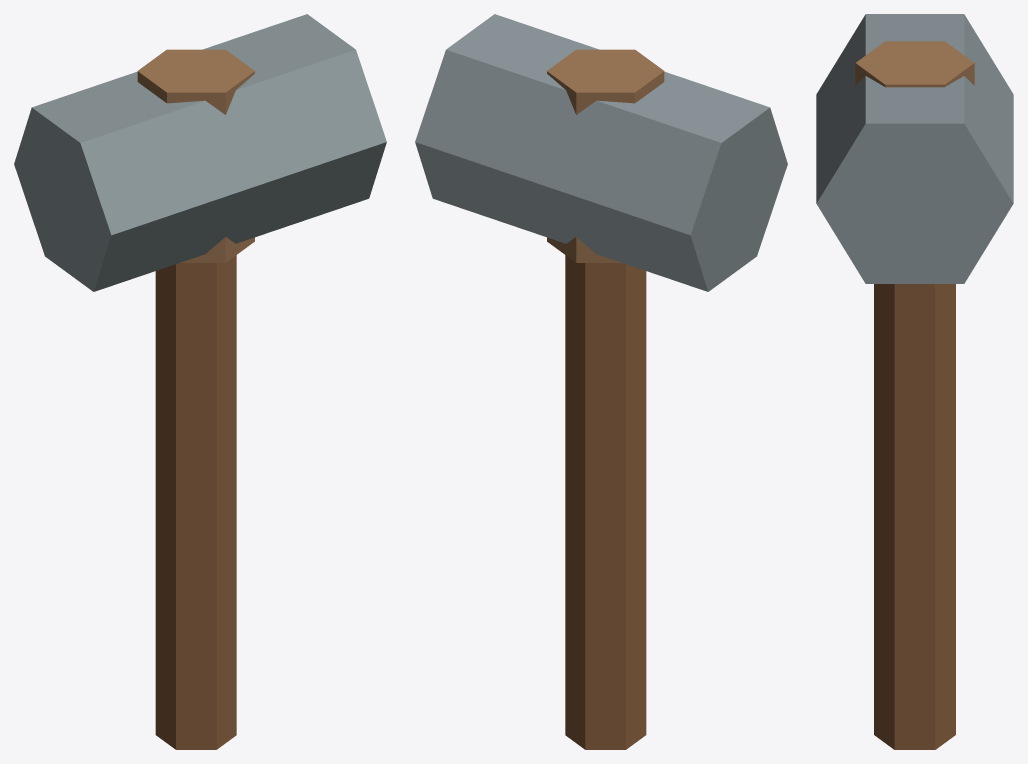
File: mallet.glb
3 views of the same model, side by side, from view 1: azimuth 30°, elevation 25°; view 2: azimuth 150°, elevation 25°; view 3: azimuth 270°, elevation 25° (orthographic).
Visible parts, largest first — view 1: mallet; view 2: mallet; view 3: mallet.
Part boxes in pixels (<box>): mallet: <box>14,14,386,749</box>; mallet: <box>415,14,787,749</box>; mallet: <box>816,14,1013,749</box>.
Bounding box in the file's own units: 0.3458 × 0.7671 × 0.202.
